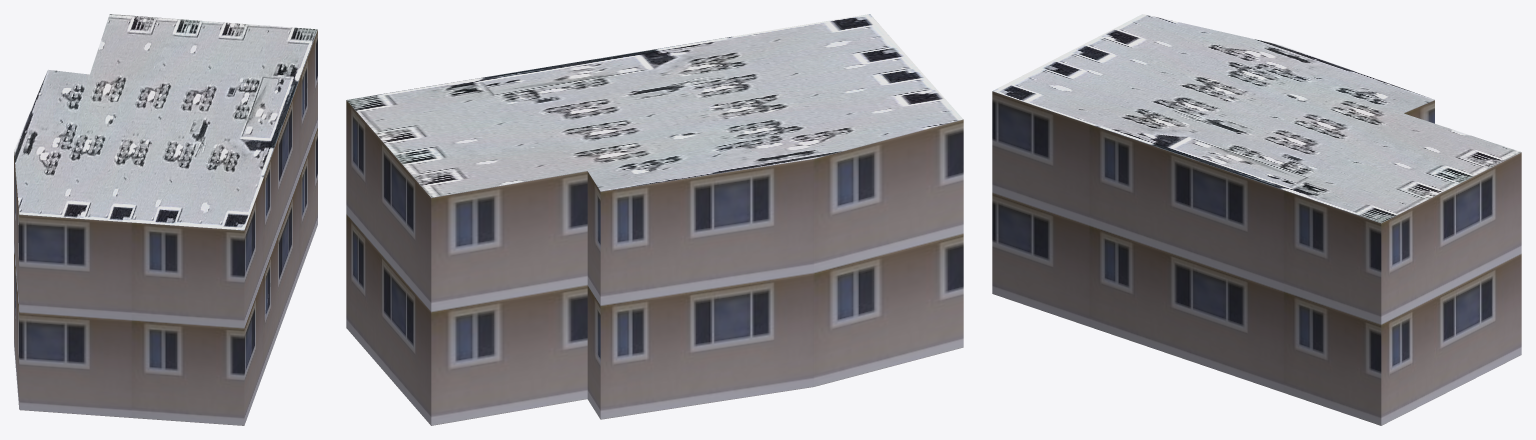
Rendered from ResTex__1918.fbx.
3 renders of one model, left to right at view 1: azimuth 30°, elevation 25°; view 2: azimuth 150°, elevation 25°; view 3: azimuth 270°, elevation 25°, orthographic. The views are drawn at different scales.
Parts seen in each view (by area): view 1: CityEngineMaterial_21_m, CityEngineMaterial_m; view 2: CityEngineMaterial_21_m, CityEngineMaterial_m; view 3: CityEngineMaterial_21_m, CityEngineMaterial_m.
Boxes of the visible parts, x1,y1,x2,y2 form: CityEngineMaterial_21_m: (14,30,317,425); CityEngineMaterial_m: (14,14,317,230); CityEngineMaterial_21_m: (346,100,963,425); CityEngineMaterial_m: (347,14,962,197); CityEngineMaterial_21_m: (992,91,1521,425); CityEngineMaterial_m: (992,14,1521,222).
Size of the model in its own units: 13.28 by 6 by 14.2.
2 materials, 2 textured.
